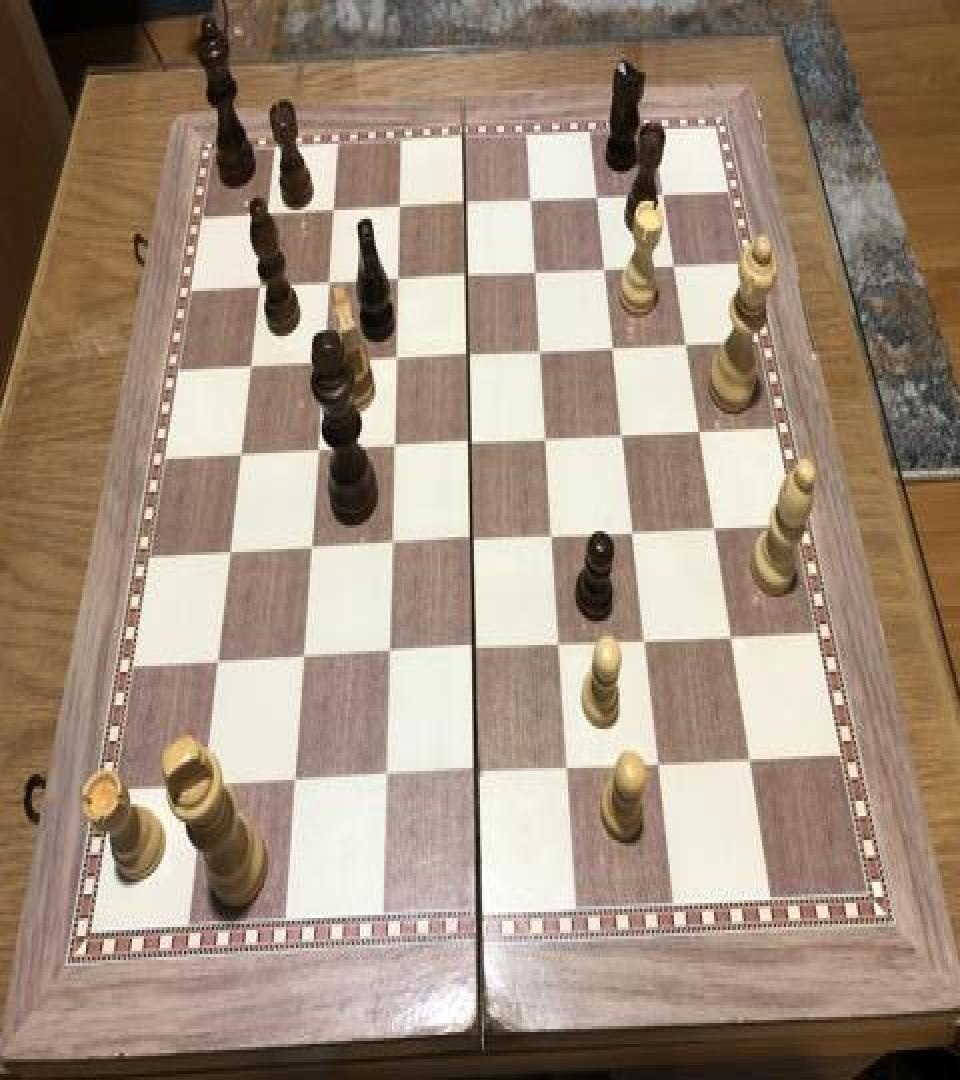xcorner: (542, 520, 566, 557), (635, 625, 659, 662), (378, 637, 402, 674), (206, 646, 230, 683), (648, 748, 672, 785), (652, 178, 676, 214), (587, 182, 611, 218), (521, 184, 545, 220), (389, 190, 413, 226), (323, 194, 347, 230), (257, 196, 281, 232), (663, 250, 687, 286), (594, 254, 618, 290), (526, 256, 550, 292), (387, 262, 411, 298), (318, 266, 342, 302), (249, 268, 273, 304), (675, 330, 699, 366), (603, 333, 627, 369), (531, 336, 555, 372), (458, 339, 482, 375), (385, 342, 409, 378), (313, 346, 337, 382), (240, 350, 264, 386), (689, 417, 713, 453), (612, 420, 636, 456), (536, 423, 560, 459), (460, 428, 484, 464), (307, 434, 331, 470), (230, 438, 254, 474), (703, 513, 727, 549), (623, 518, 647, 554), (462, 525, 486, 561), (381, 528, 405, 564), (300, 532, 324, 568), (219, 537, 243, 573), (720, 621, 744, 657), (549, 630, 573, 666), (464, 634, 488, 670), (292, 642, 316, 678), (739, 744, 763, 780), (557, 753, 581, 789), (466, 758, 490, 794), (375, 762, 399, 798), (284, 766, 308, 802), (192, 771, 216, 807), (455, 188, 479, 223), (456, 260, 480, 295), (383, 431, 407, 466)
